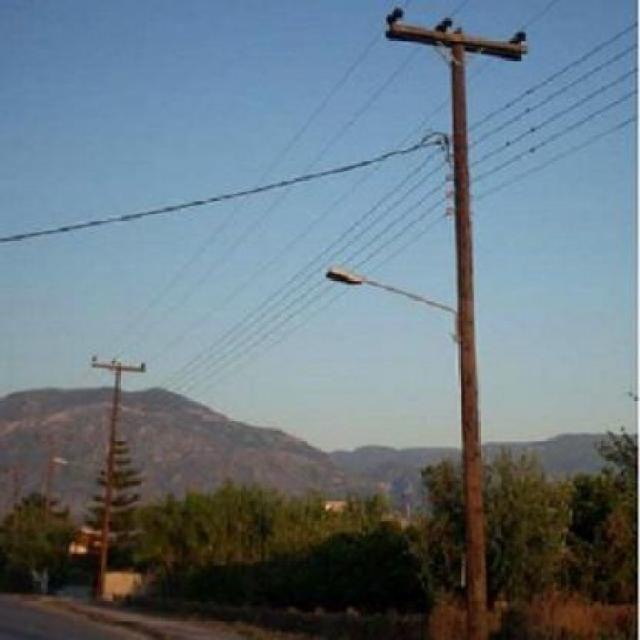pole: (377, 9, 538, 623), (77, 345, 149, 457)
